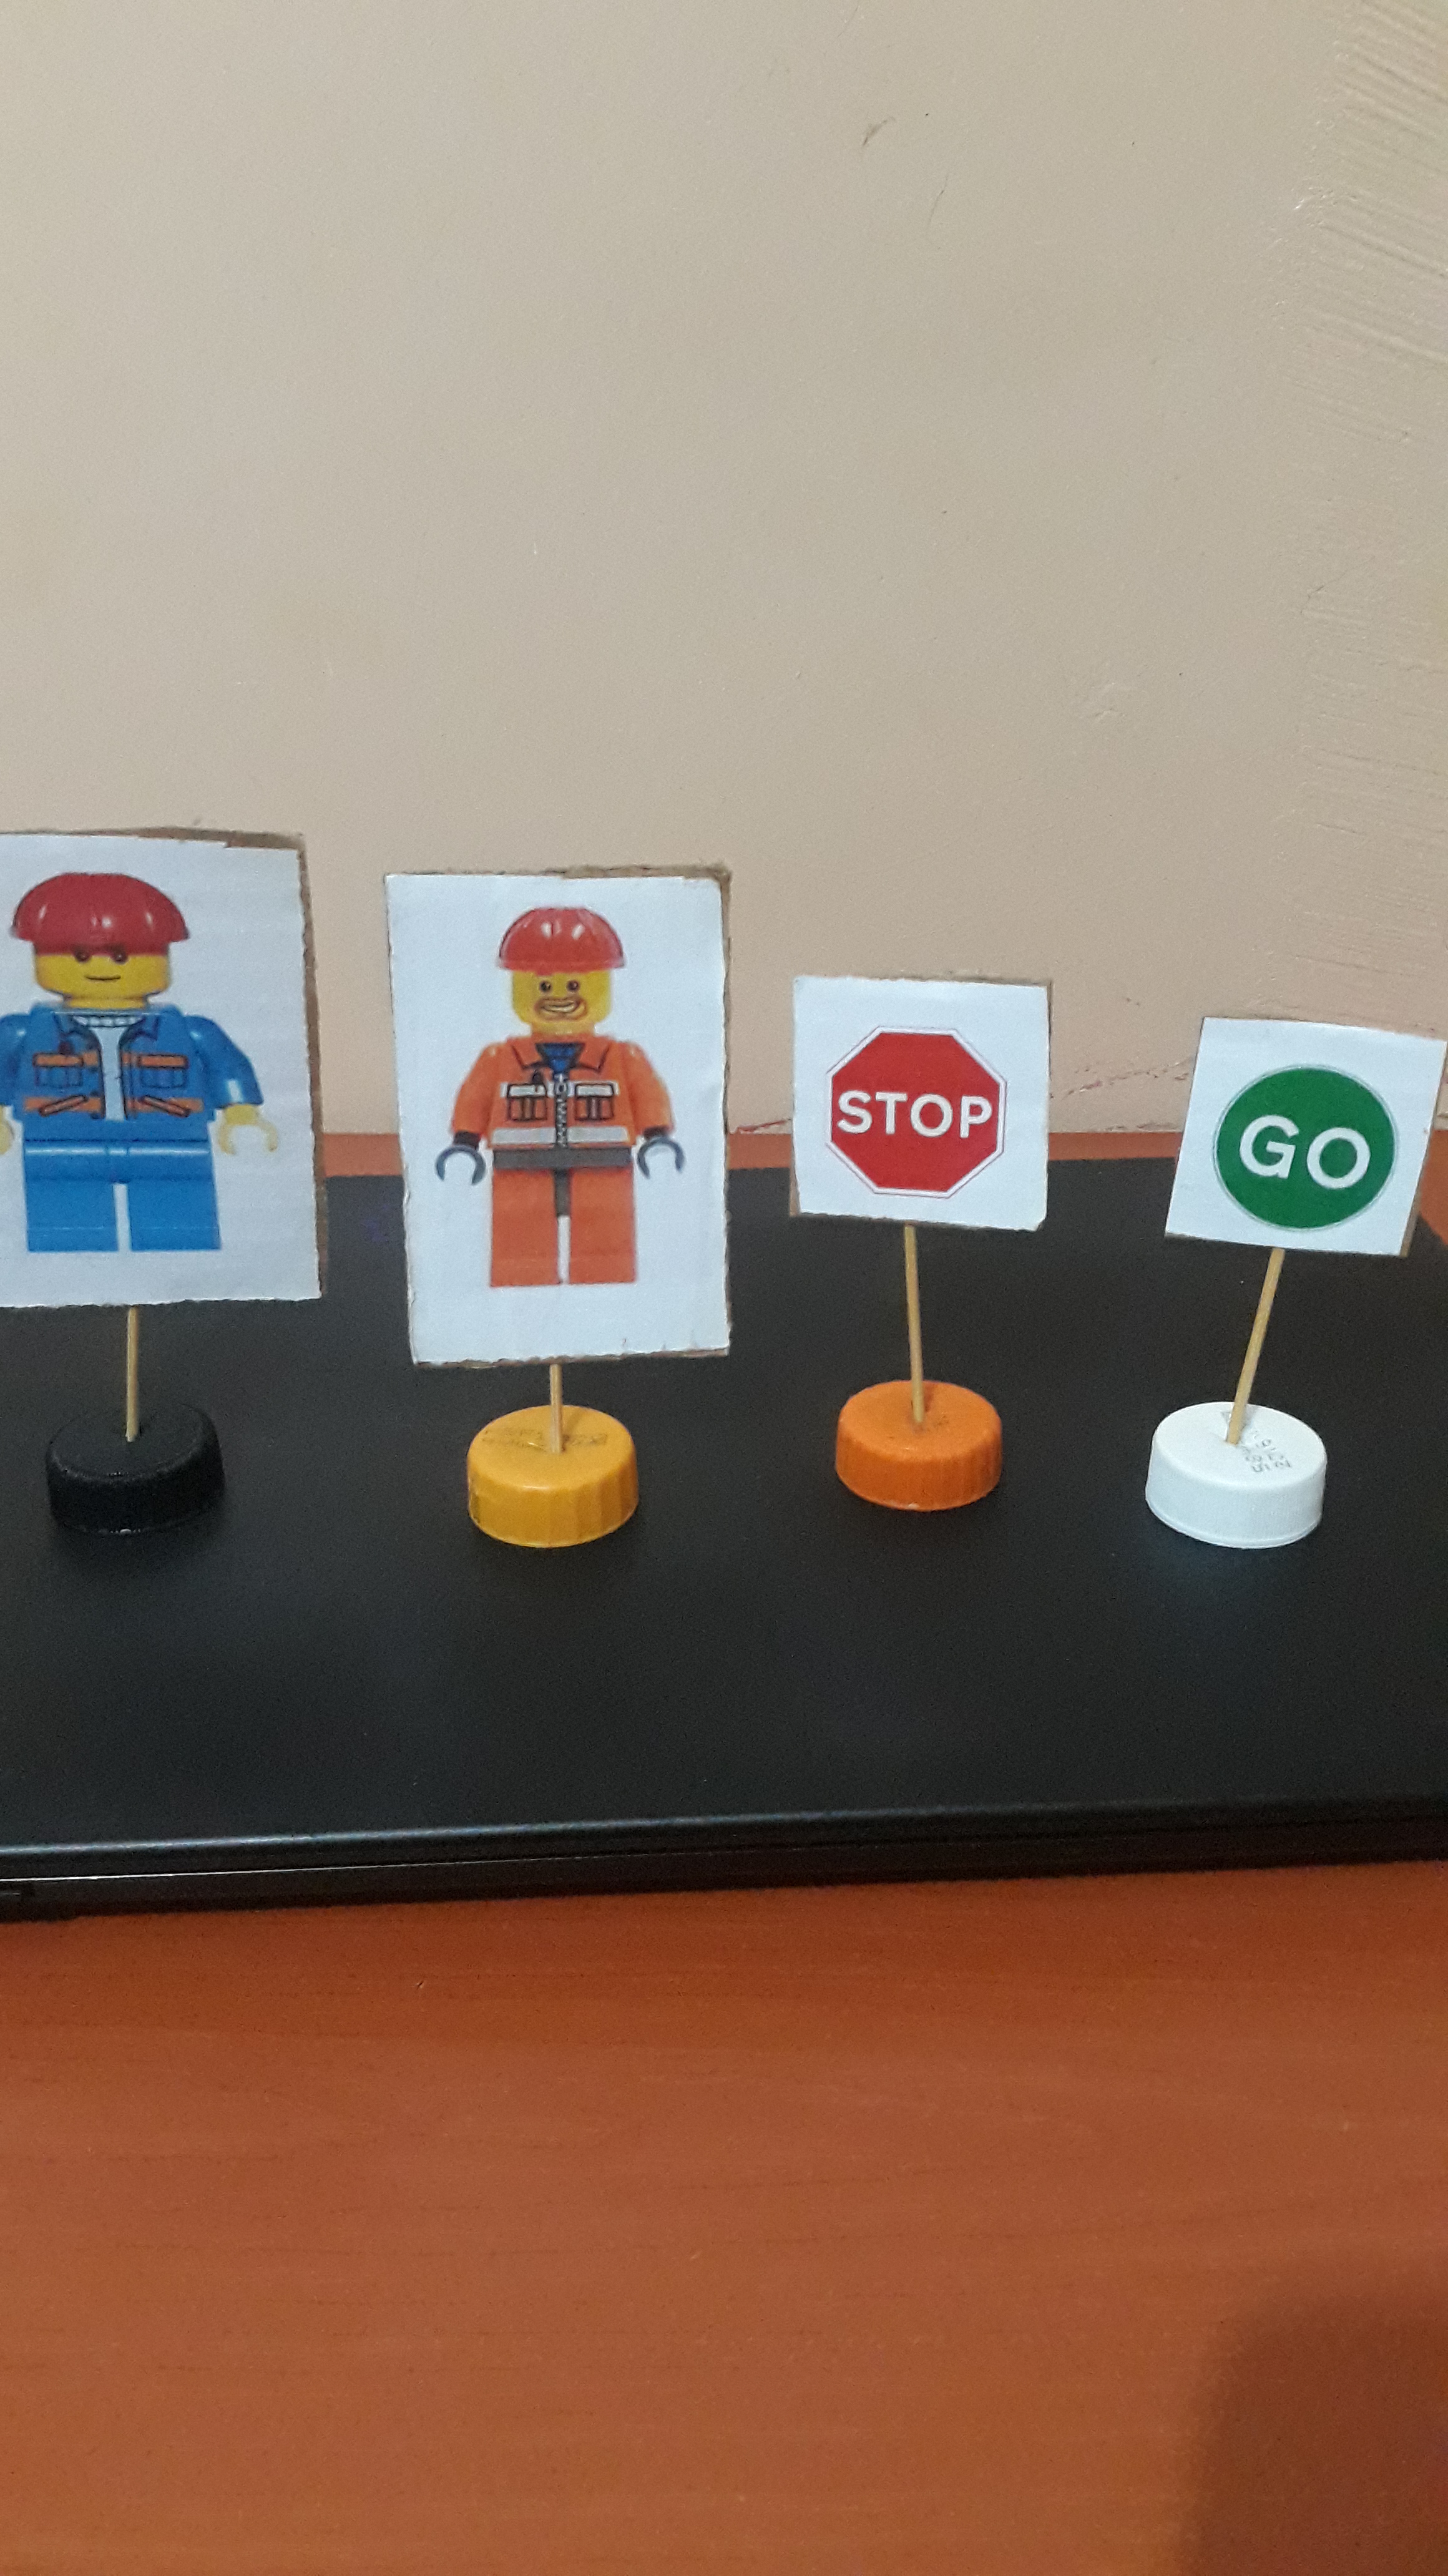go: (1196, 1023, 1407, 1253)
pedestrian: (412, 890, 701, 1339), (18, 839, 268, 1241)
stop: (806, 972, 1052, 1237)
